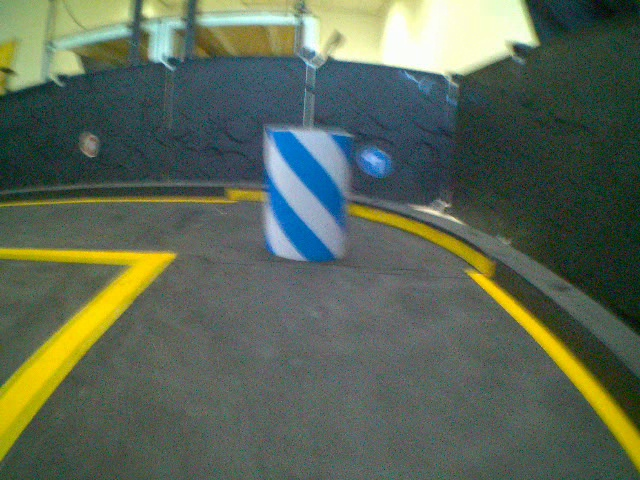bucket: (262, 123, 356, 265)
